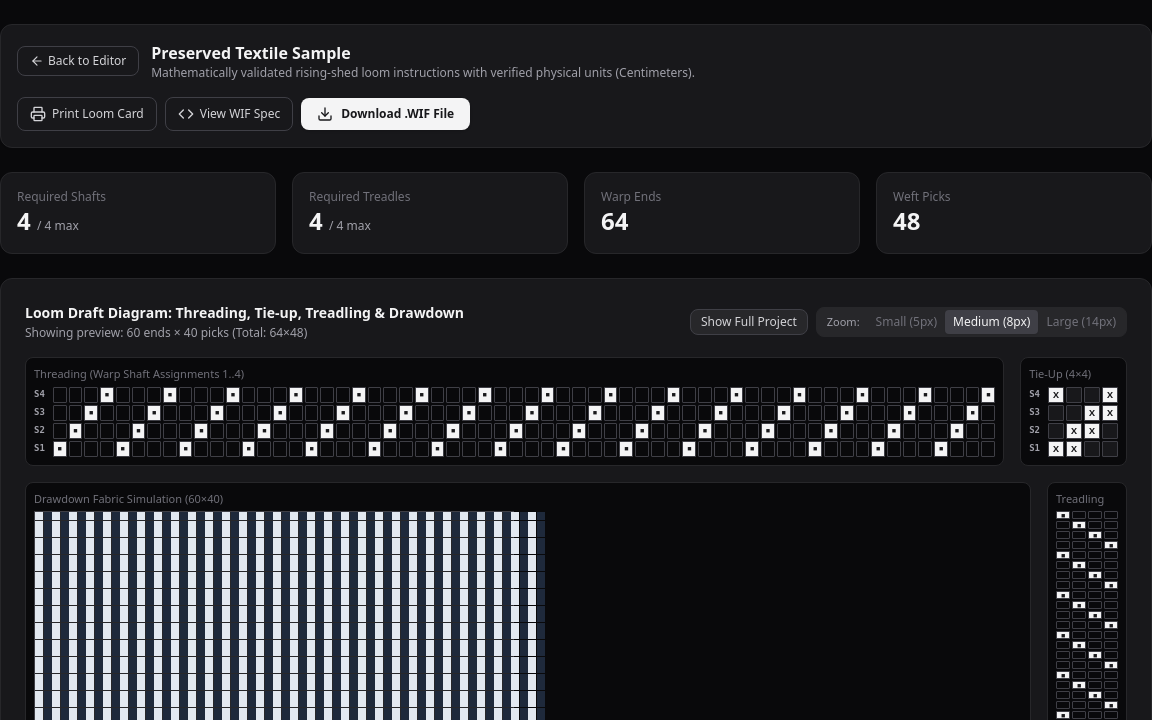
it: Issue #11: Drawdown and Treadling Previews Zoom & Scale Controls › renders zoom controls (Small, Medium, Large)
Expected: the button "Small (5px)" is shown, [868,310,945,334]
Expected: the button "Medium (8px)" is shown, [945,310,1038,334]
Clicking Large activates large scale
Click the button "Large (14px)" at point(1081, 322), box [1038,310,1124,334]
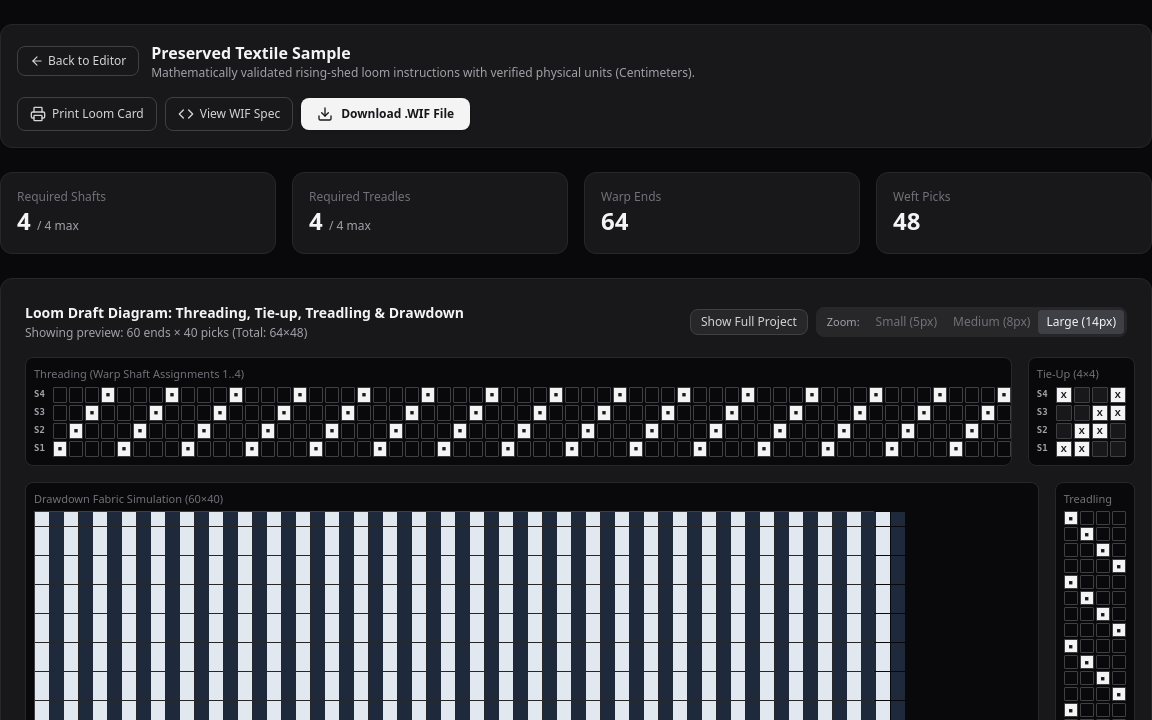
Expected: the button "Large (14px)" is pressed, [1038,310,1124,334]
